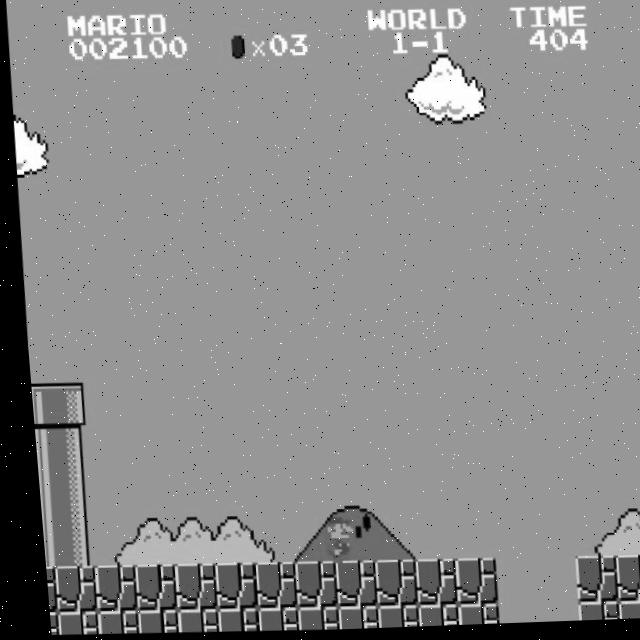11- little_mario: (304, 515, 351, 567)
14- pipe: (39, 473, 84, 521), (41, 519, 86, 567), (36, 428, 81, 475), (27, 429, 41, 474), (30, 474, 43, 520), (33, 520, 45, 566)
15- pipe_head: (35, 381, 80, 430), (25, 383, 39, 429)
17- undestructible_block: (203, 562, 248, 611), (323, 561, 368, 610), (563, 558, 608, 607), (43, 565, 88, 613), (83, 564, 128, 612), (123, 564, 168, 612), (163, 563, 208, 611), (243, 562, 288, 610), (283, 562, 328, 610), (363, 561, 408, 609), (403, 560, 448, 608), (443, 560, 488, 608), (603, 558, 640, 606), (325, 606, 368, 632), (86, 609, 128, 635), (46, 610, 88, 635), (126, 609, 168, 634), (166, 609, 208, 634), (206, 608, 248, 633), (246, 608, 288, 633), (286, 607, 328, 632), (366, 606, 408, 631), (406, 605, 448, 629), (446, 605, 488, 628), (566, 604, 608, 625), (606, 603, 640, 624), (36, 566, 48, 612), (39, 611, 48, 634)
